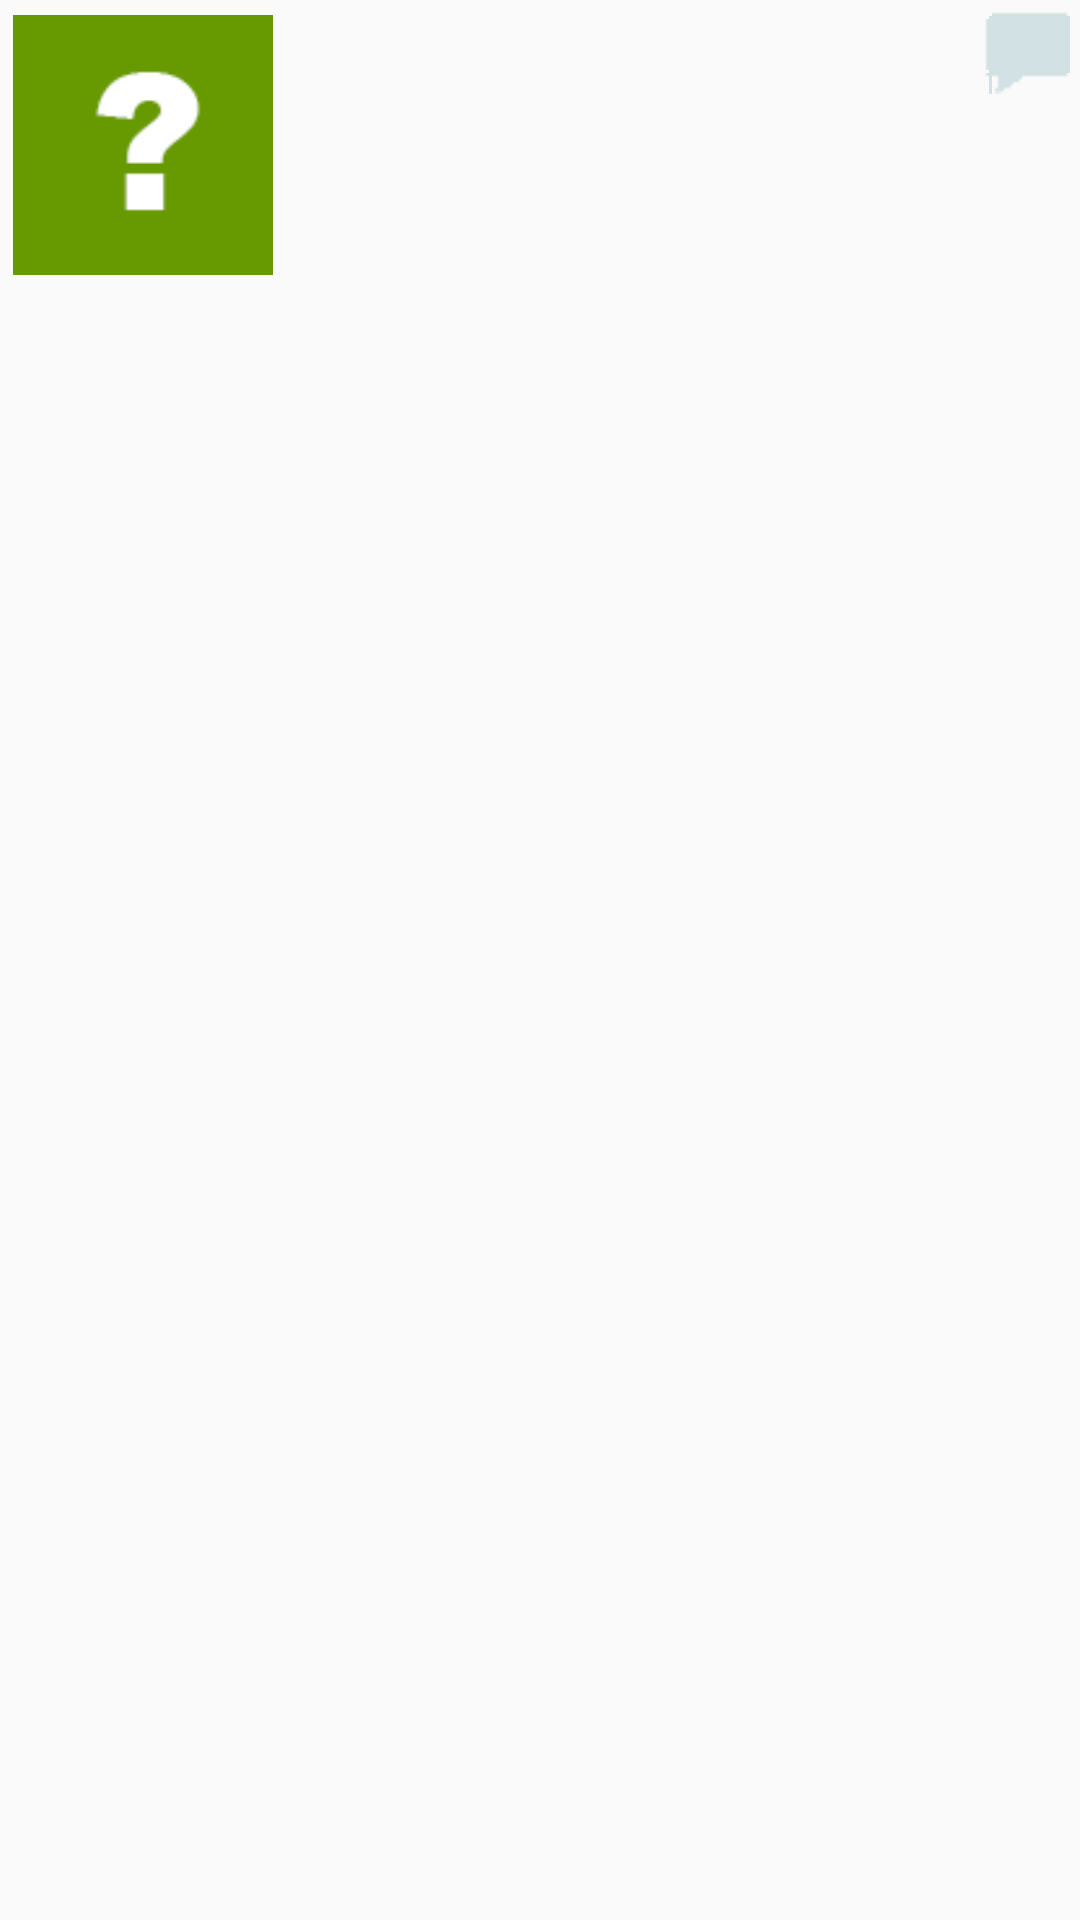

Icons on this 1080 x 1920 Android screen, each with the point to tap as [x,y]:
uncategorized: [143,145]
